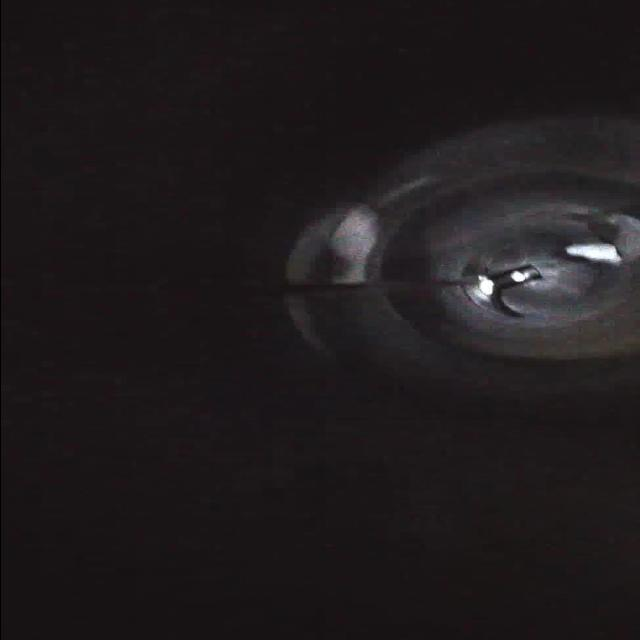impurity: (556, 236, 635, 274)
